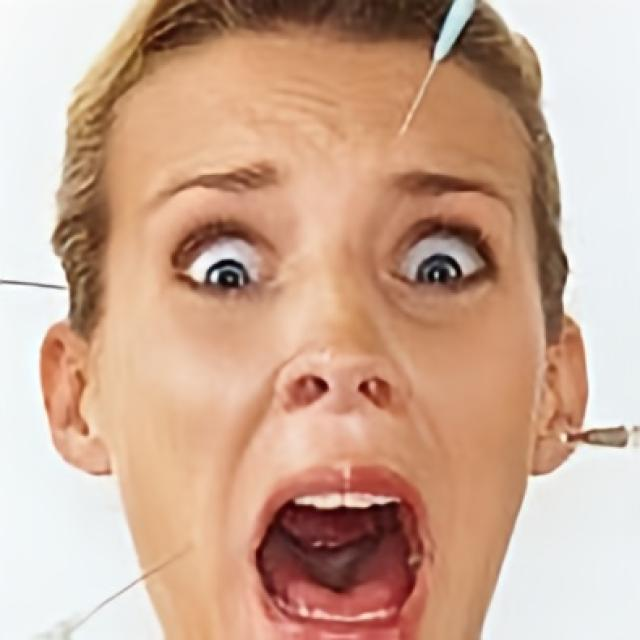fear: (100, 24, 548, 640)
